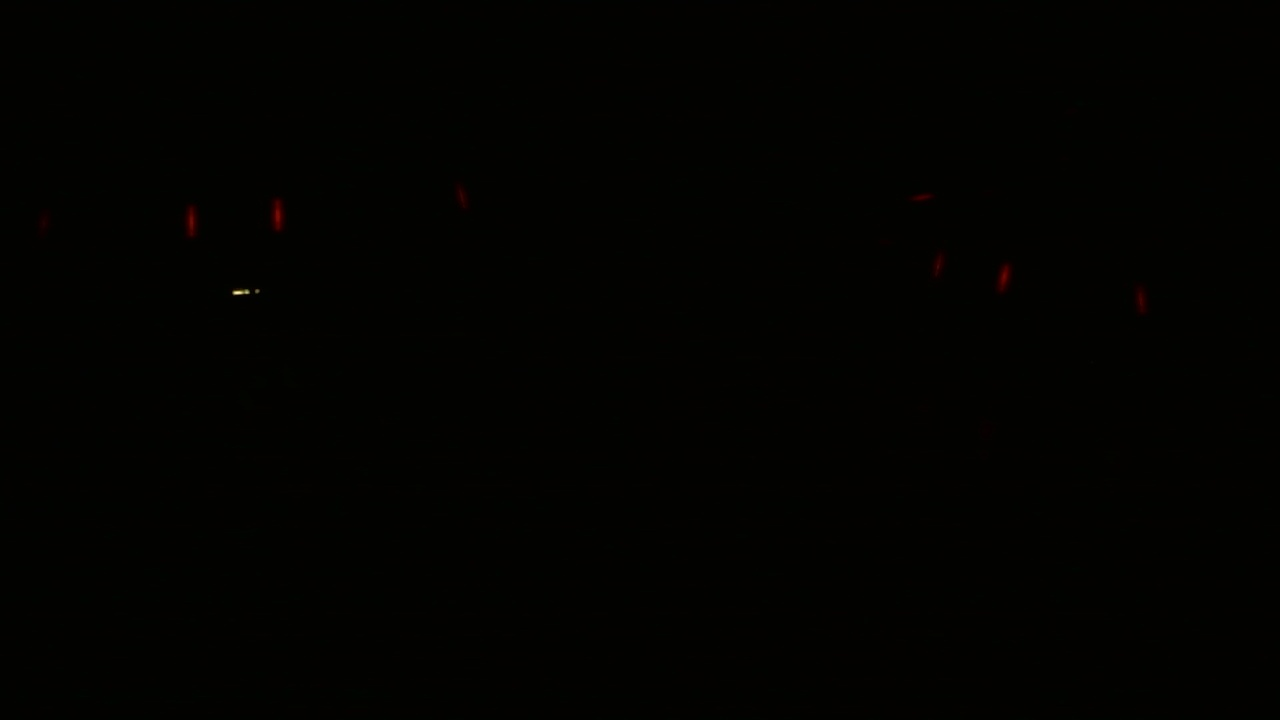pair1: (929, 245, 1012, 294), (177, 200, 288, 235)
